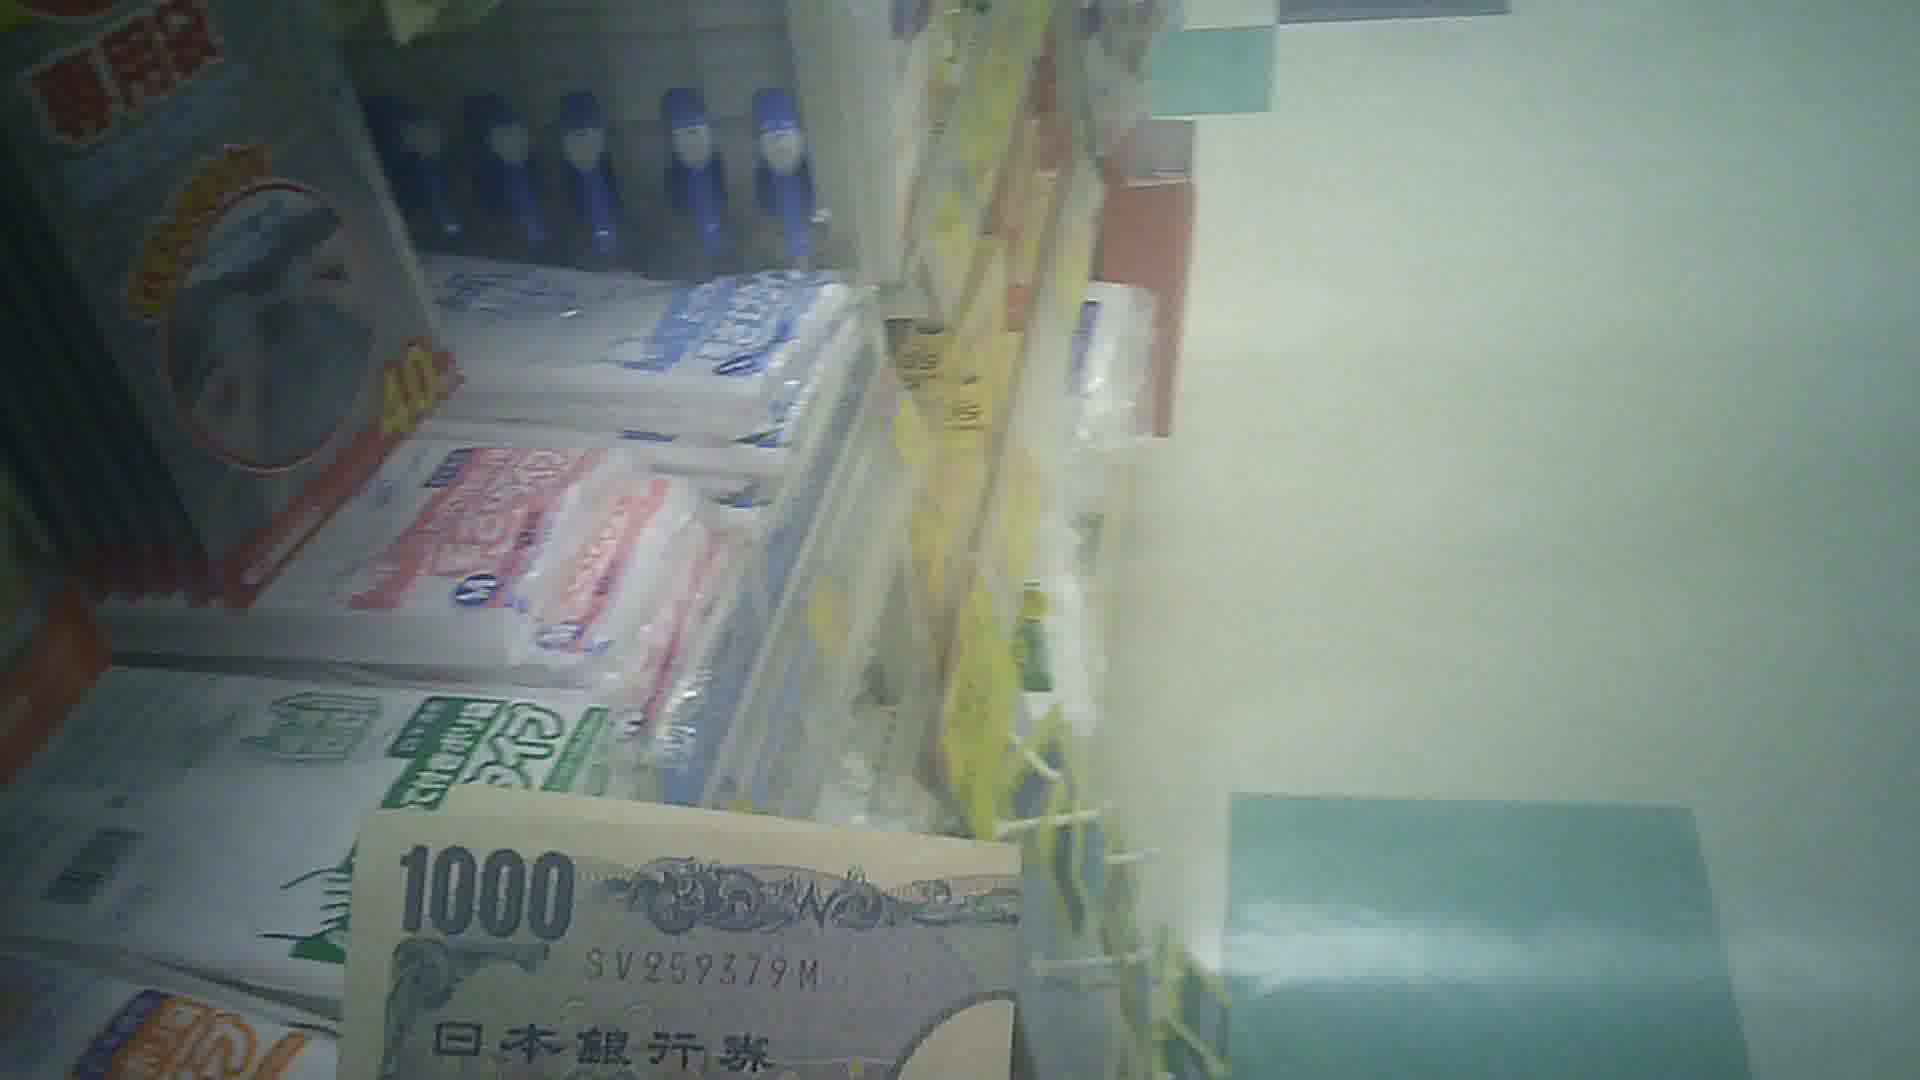1,000 Yen: (342, 796, 1013, 1079)
